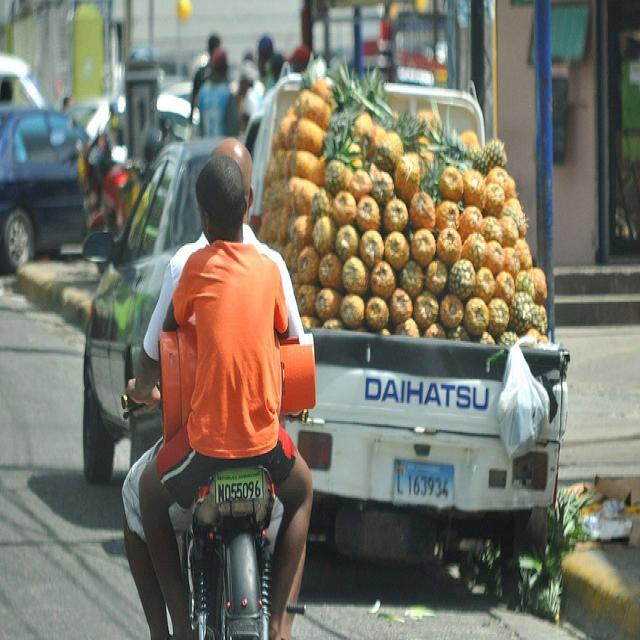motor: (188, 460, 283, 637)
